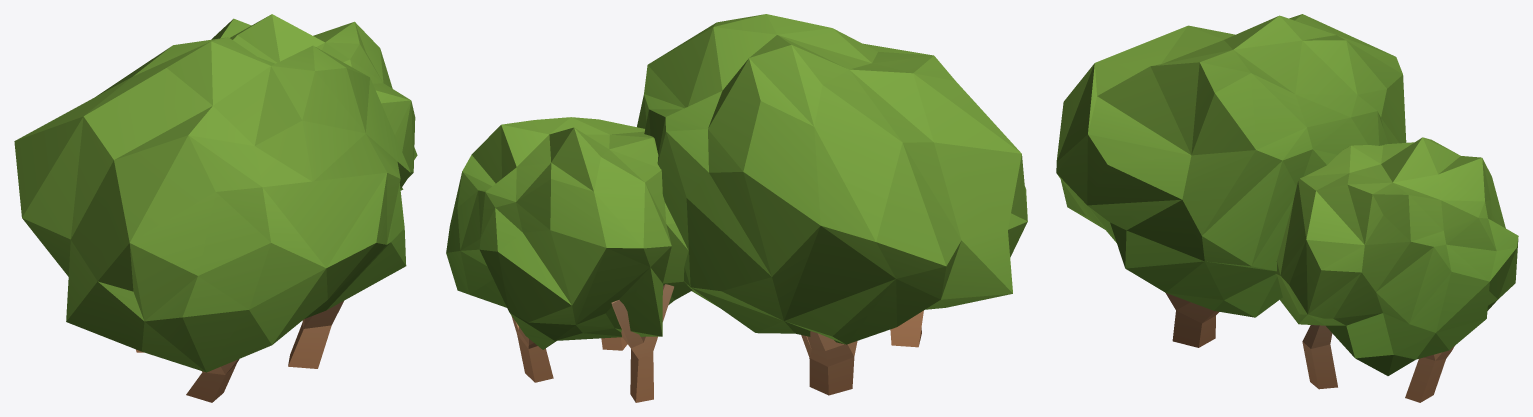
File: grassland_bush_3.fbx
The picture shows the model from 3 angles, left to right: view 1: azimuth 30°, elevation 25°; view 2: azimuth 150°, elevation 25°; view 3: azimuth 270°, elevation 25°; orthographic projection. The views are drawn at different scales.
Visible parts, largest first — view 1: Bush_group_small; view 2: Bush_group_small; view 3: Bush_group_small.
Boxes of the visible parts, x1,y1,x2,y2 form: Bush_group_small: (14, 14, 417, 402); Bush_group_small: (446, 14, 1027, 402); Bush_group_small: (1056, 14, 1518, 402).
Bounding box in the file's own units: 302 × 201 × 280.
1 material, 1 textured.
